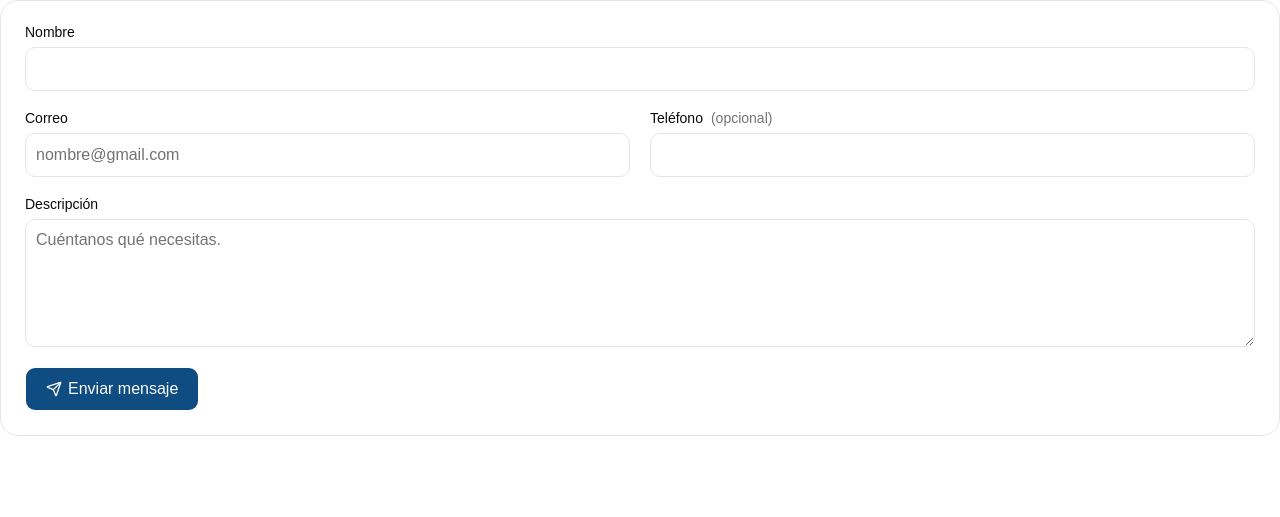
ContactForm › si el correo aún no está configurado lo avisa, sin confirmar ningún envío
The image size is (1280, 517).
Type "Ana" into the field labelled "Nombre".
click(640, 69); type("Ana")  # box [25,47,1255,91]
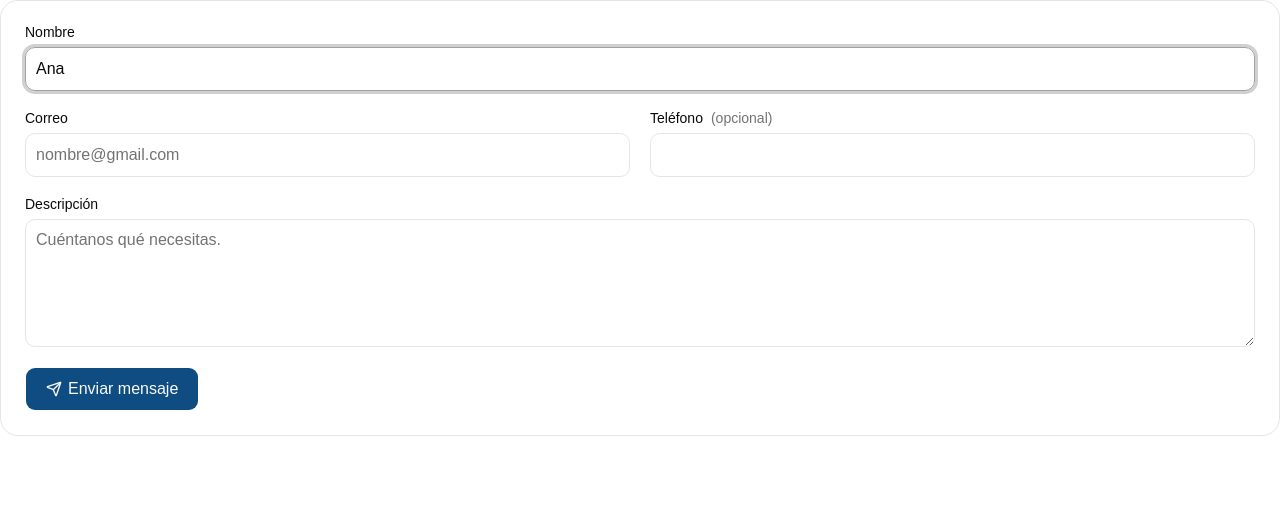
Type "ana@gmail.com" into the field labelled "Correo".
click(328, 155); type("ana@gmail.com")  # box [25,133,630,177]
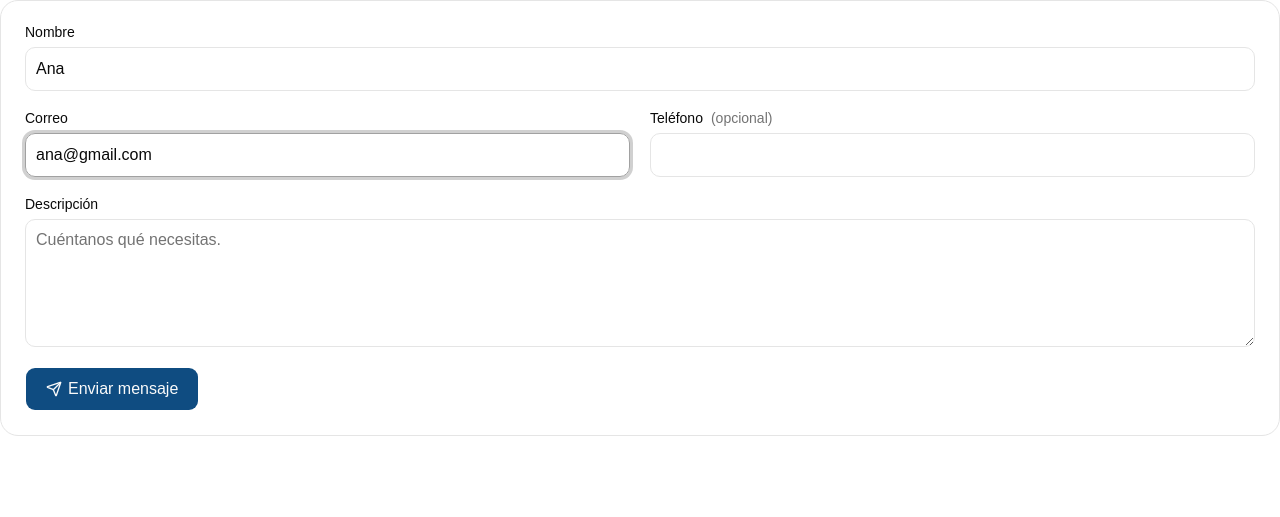
Type "Quiero publicar mi casa." into the text box labelled "Descripción".
click(640, 283); type("Quiero publicar mi casa.")  # box [25,219,1255,347]
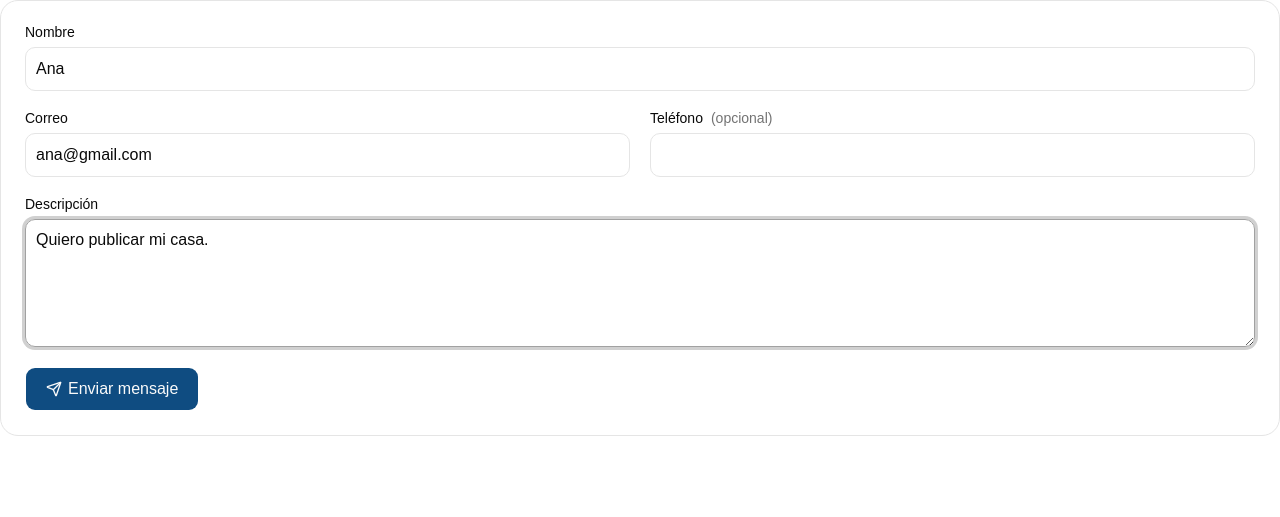
Click the button "Enviar mensaje".
click(112, 389)  # box [25,367,199,411]
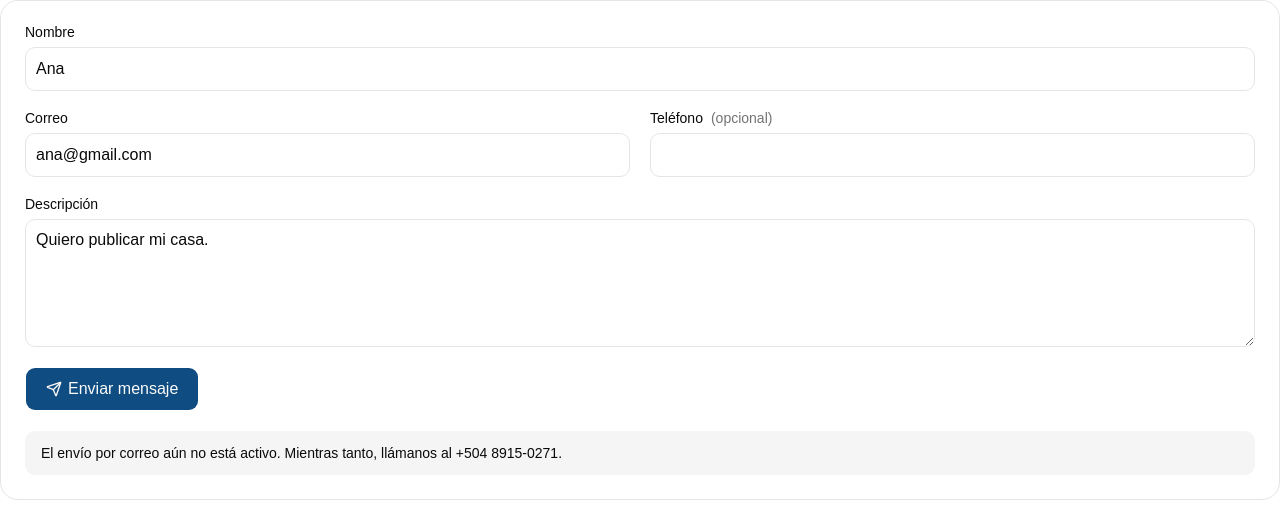
Now the message shows "El envío por correo aún no está activo.", box [41,445,562,461]
